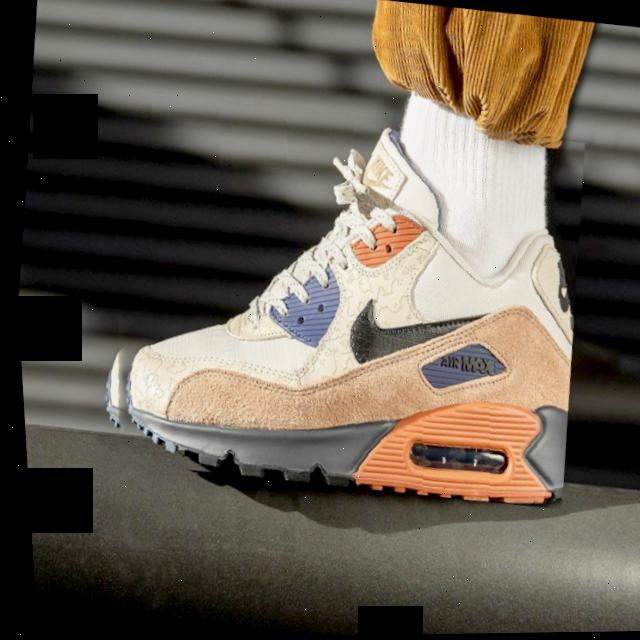shoe: (70, 81, 600, 517)
